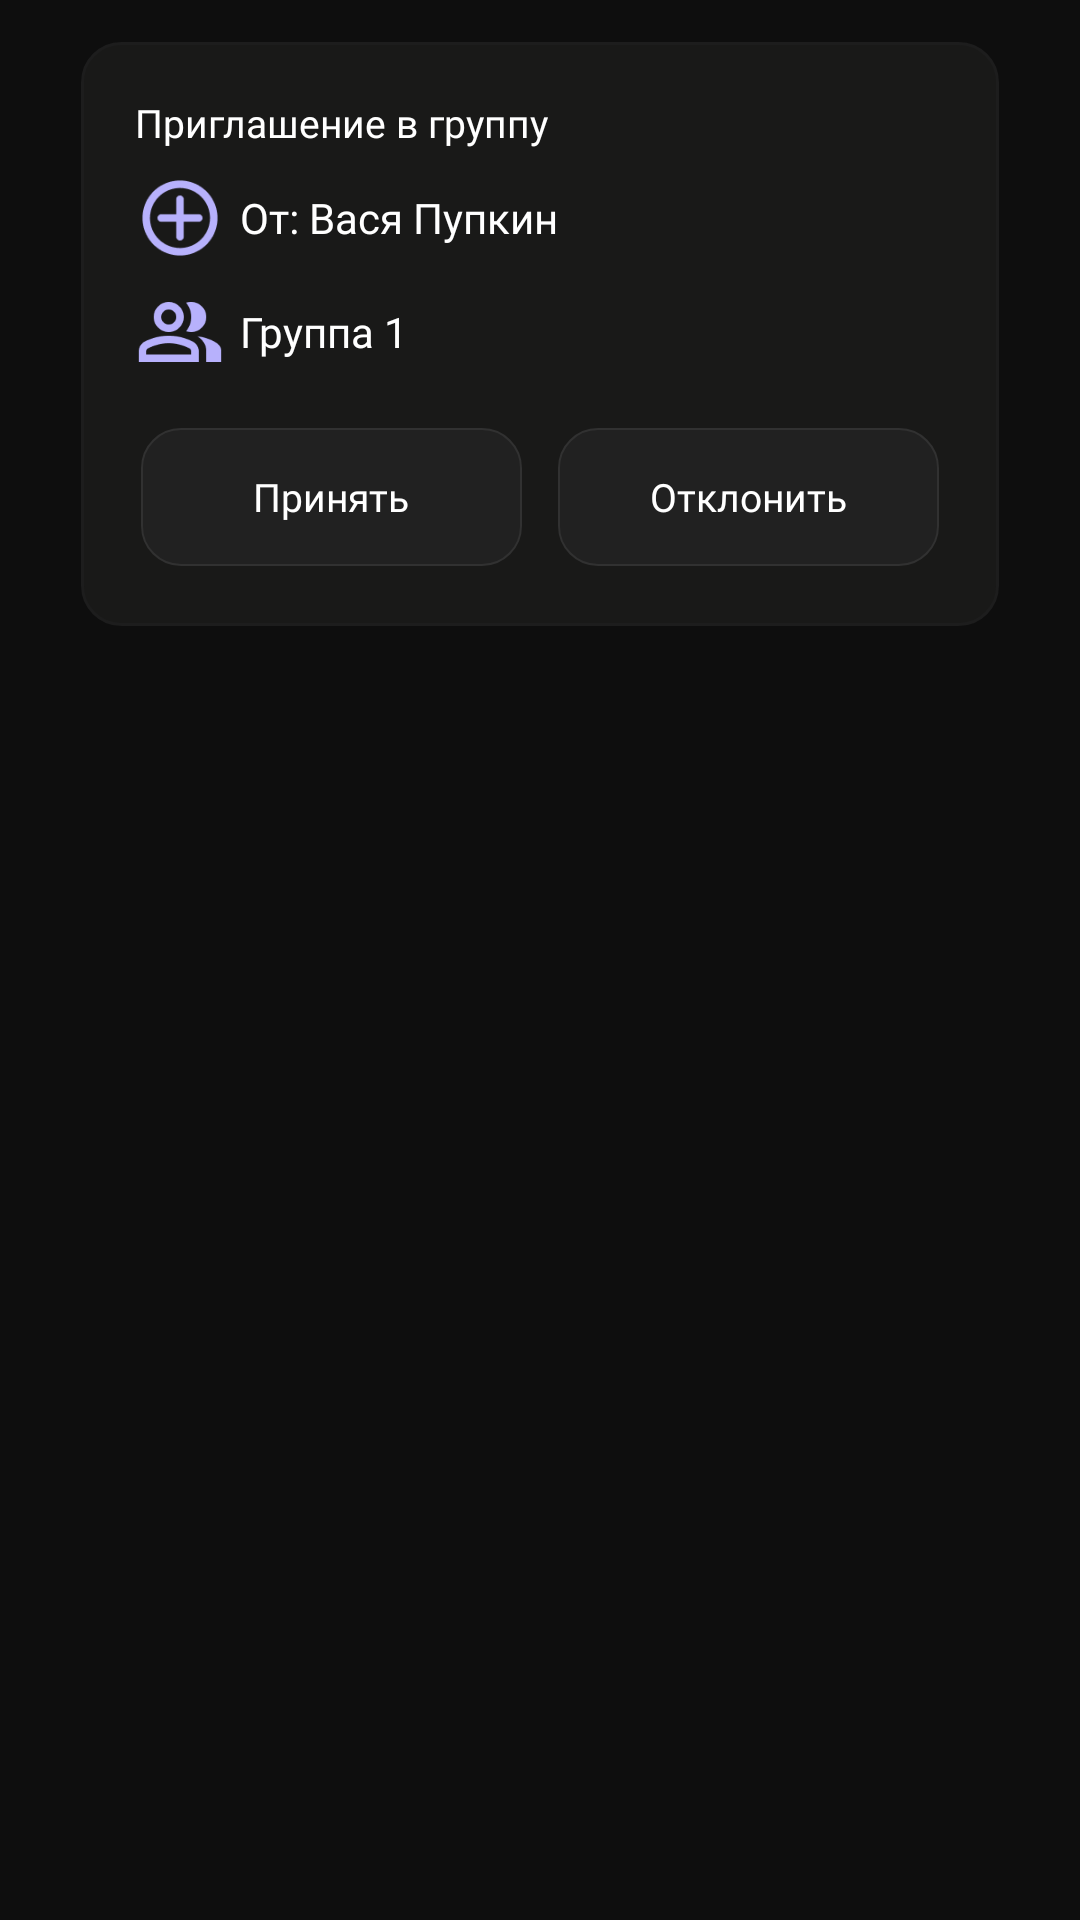

Named icons in this screenshot (1080w x 1920h) and their bounding boxes, detection(x1, y1, x2, y2):
plus: detection(142, 180, 218, 256)
user group: detection(138, 302, 222, 362)
